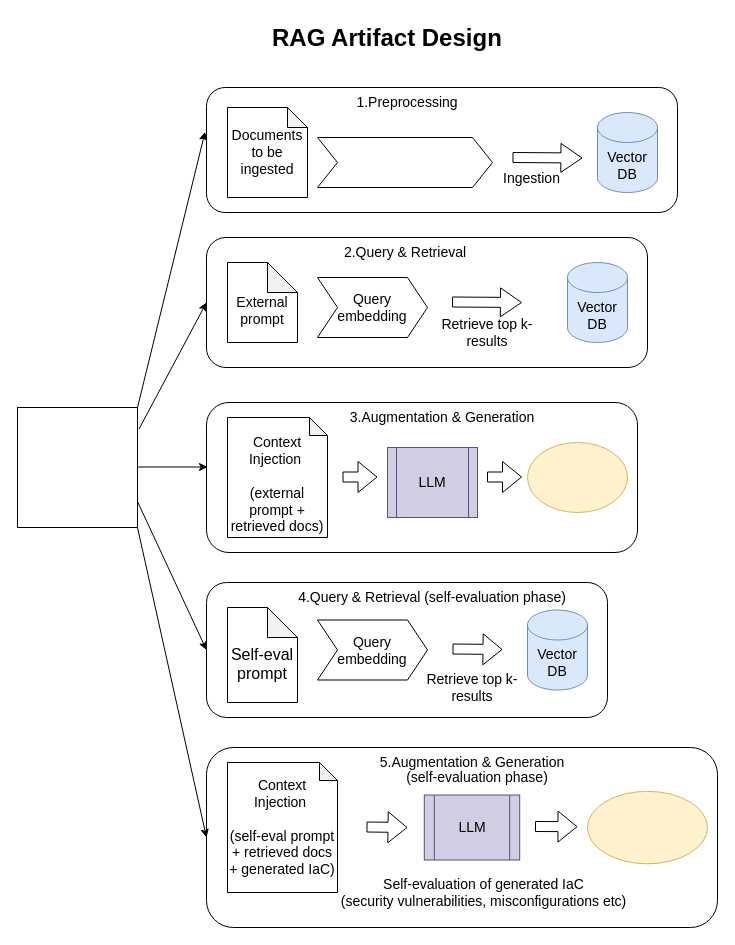
The diagram is 735 pixels wide and 945 high, and some of its shapes have lost their labels. The centre of each missing label's shape, as x and y in pixels:
Document chunking & embedding: pixel 404 162
Generated IaC: pixel 577 477
RAG Artifact: pixel 77 467
Self-evaluated generated IaC: pixel 647 827
